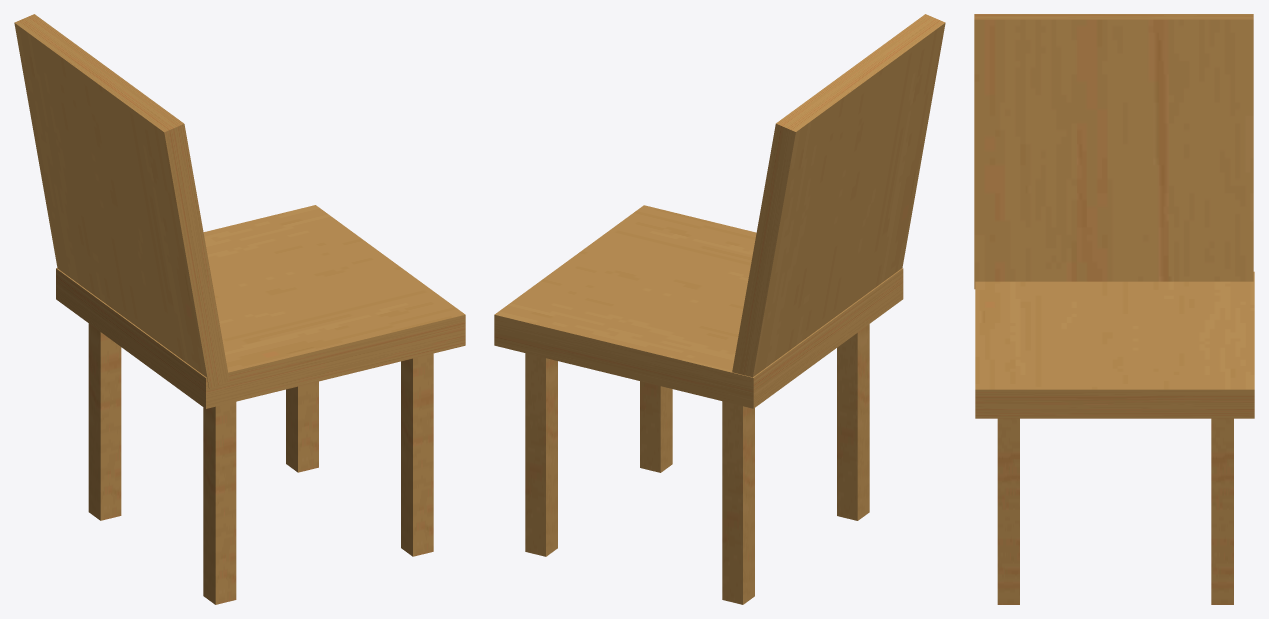
The model's file is wood_chair.fbx.
The picture shows the model from 3 angles, left to right: view 1: azimuth 30°, elevation 25°; view 2: azimuth 150°, elevation 25°; view 3: azimuth 270°, elevation 25°; orthographic projection. The views are drawn at different scales.
Parts seen in each view (by area): view 1: pCube6, pCube5, pCube4, pCube1, pCube3, pCube2; view 2: pCube6, pCube5, pCube2, pCube3, pCube4, pCube1; view 3: pCube6, pCube5, pCube2, pCube1.
Boxes of the visible parts, <box> form: pCube6: <box>14,14,229,388</box>; pCube5: <box>56,205,465,408</box>; pCube4: <box>203,402,236,604</box>; pCube1: <box>401,353,433,556</box>; pCube3: <box>88,323,121,520</box>; pCube2: <box>286,381,318,472</box>; pCube6: <box>732,14,945,377</box>; pCube5: <box>494,205,903,408</box>; pCube2: <box>525,353,557,556</box>; pCube3: <box>722,401,754,604</box>; pCube4: <box>837,324,869,520</box>; pCube1: <box>640,381,672,472</box>; pCube6: <box>974,14,1253,289</box>; pCube5: <box>975,271,1254,418</box>; pCube2: <box>1211,418,1233,604</box>; pCube1: <box>997,418,1019,604</box>.
Size of the model in its own units: 3.08 by 4.89 by 2.66.
Materials: 1 (1 with a texture image).
